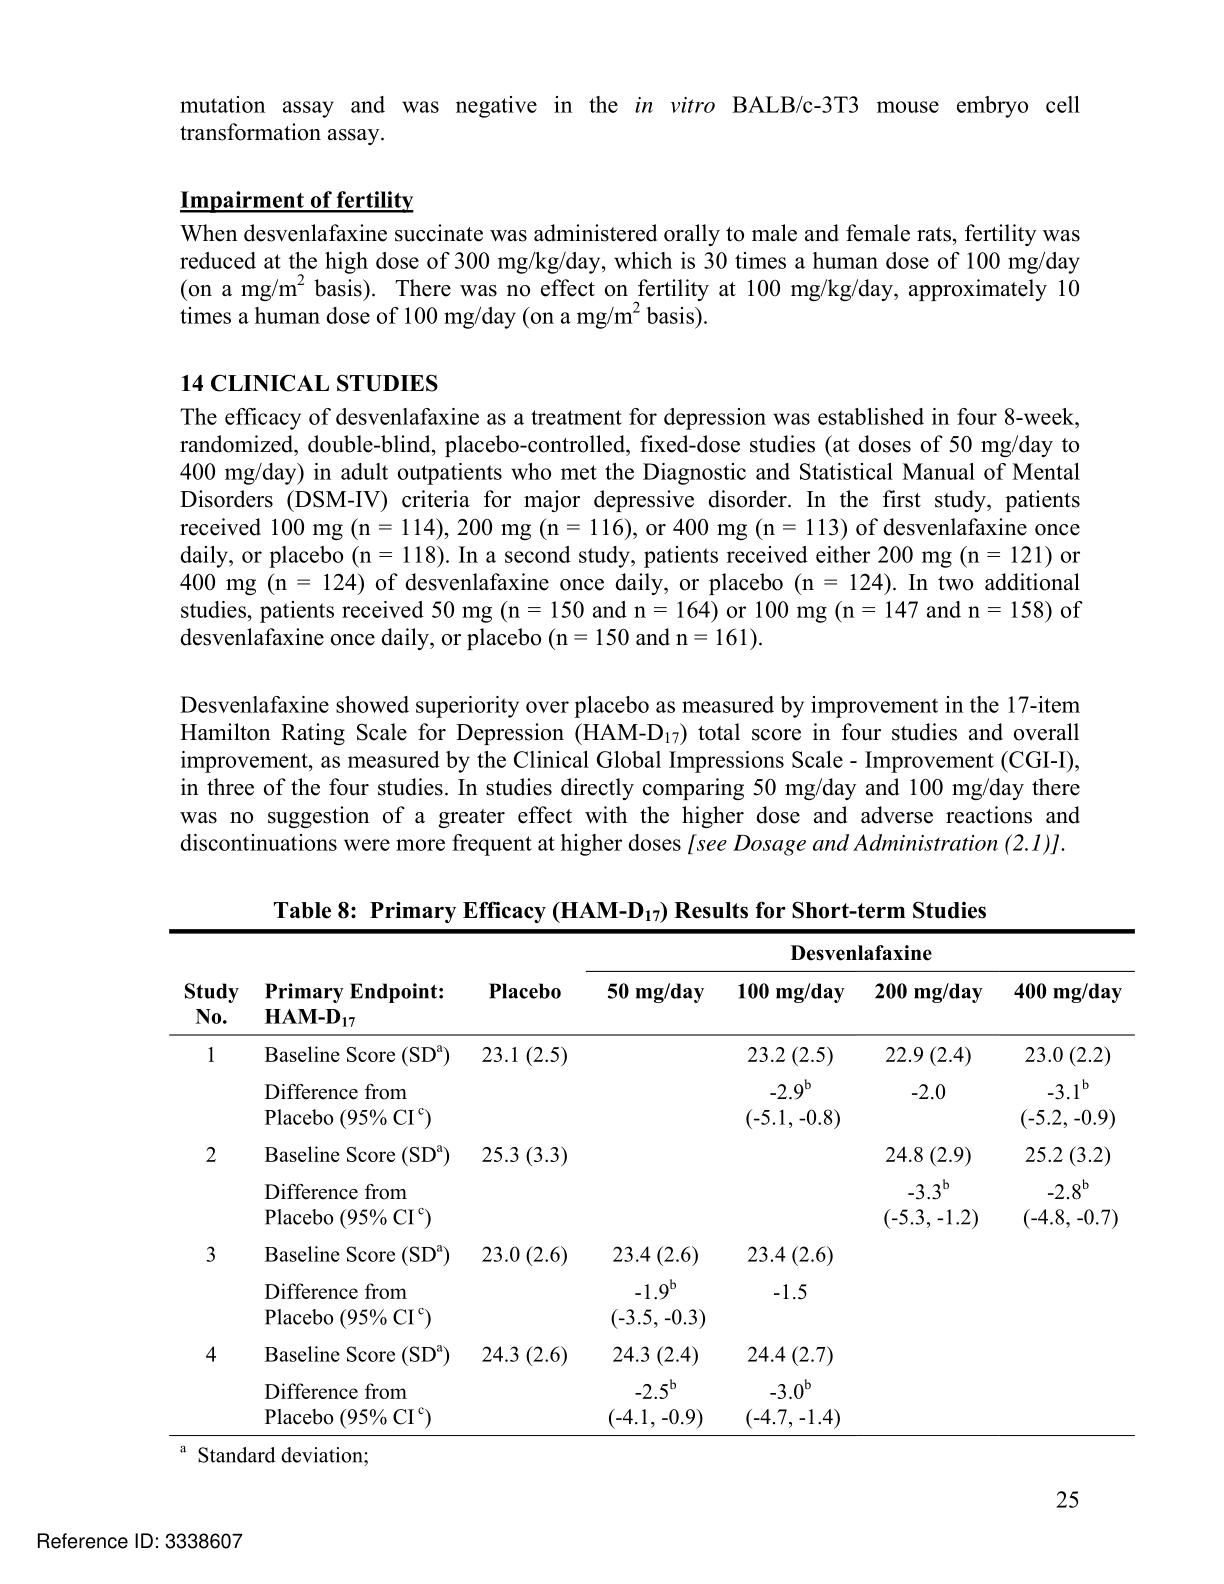partial_lined_merged_cells: (165, 930, 1140, 1439)
